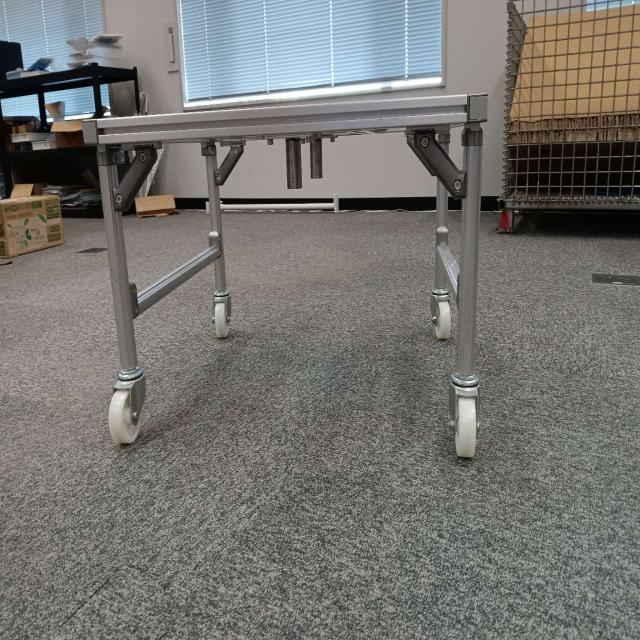box: (0, 190, 65, 256)
door: (92, 92, 481, 215)
